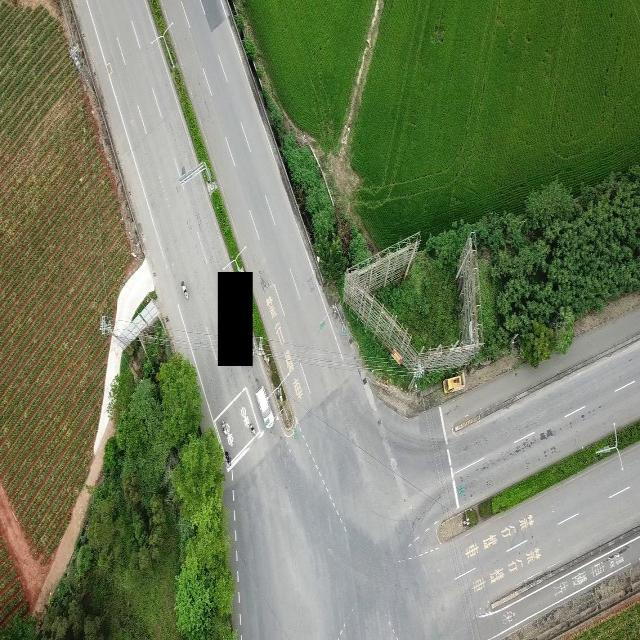bike: (181, 280, 189, 300), (220, 420, 228, 437), (249, 422, 256, 436), (224, 448, 230, 464)
car: (256, 387, 273, 428)
